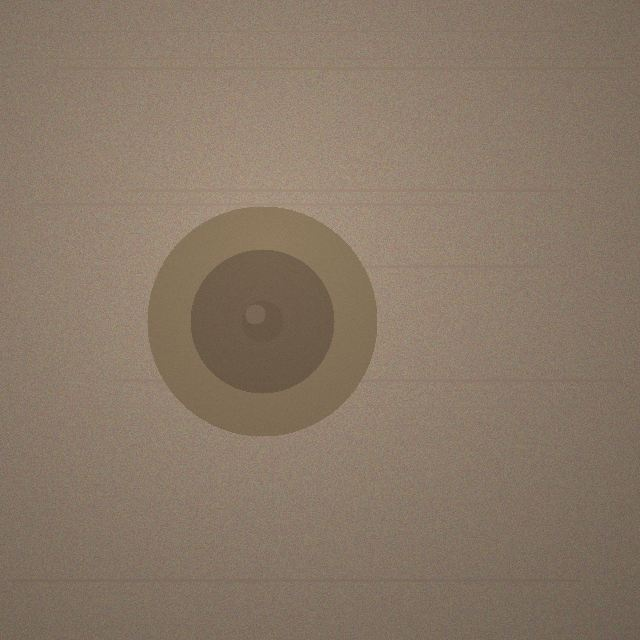good: (147, 206, 377, 436)
